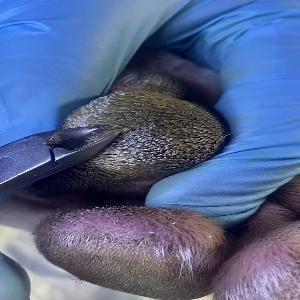keratosis: (58, 70, 225, 175)
